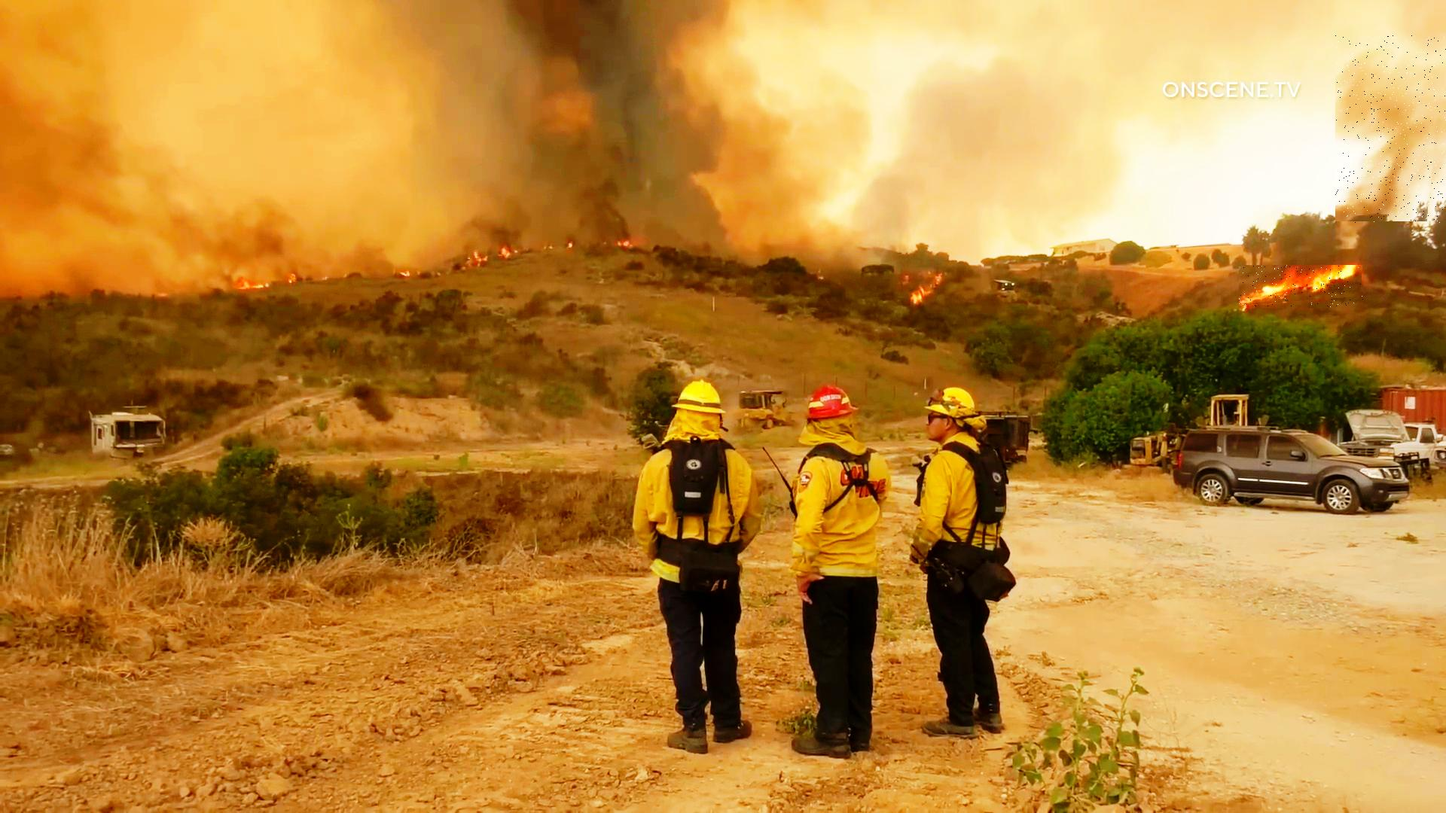fire: (1239, 266, 1363, 308)
smoke: (1335, 36, 1446, 223)
